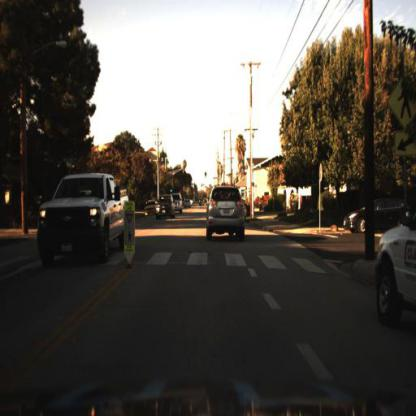car: (38, 173, 131, 274), (370, 194, 416, 336), (345, 193, 409, 236), (204, 179, 248, 241), (345, 198, 409, 235), (156, 194, 175, 222), (174, 191, 186, 217)
